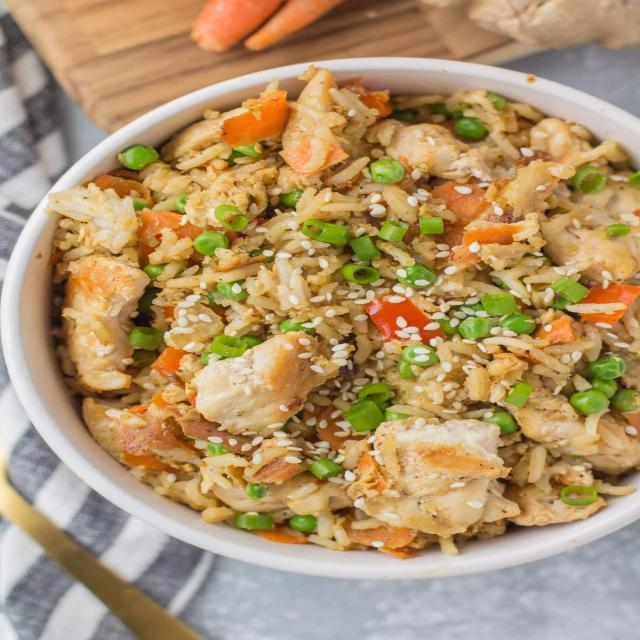Nasi Goreng: (45, 64, 638, 559)
